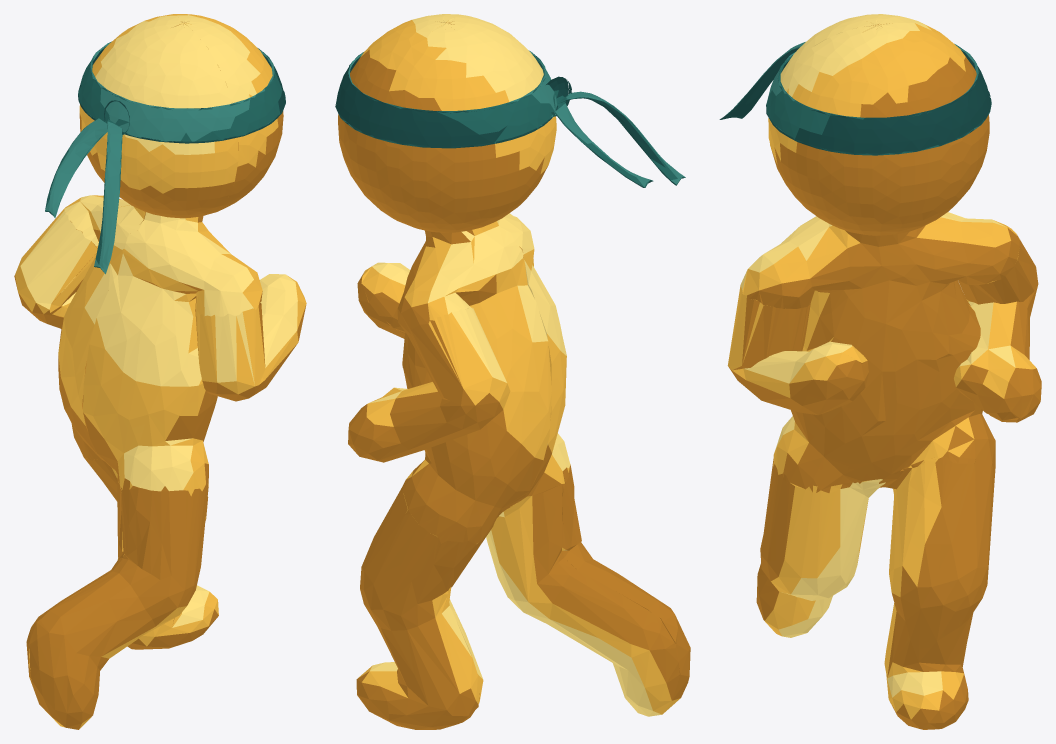
Rendered from Ninja_Jog2_R.gltf.
The picture shows the model from 3 angles, left to right: view 1: azimuth 30°, elevation 25°; view 2: azimuth 150°, elevation 25°; view 3: azimuth 270°, elevation 25°; orthographic projection. The views are drawn at different scales.
Visible parts, largest first — view 1: Ninja_Jog2_R_baked; view 2: Ninja_Jog2_R_baked; view 3: Ninja_Jog2_R_baked.
Part boxes in pixels (left/top/right/bottom): Ninja_Jog2_R_baked: left=14, top=14, right=306, bottom=729; Ninja_Jog2_R_baked: left=335, top=14, right=690, bottom=729; Ninja_Jog2_R_baked: left=719, top=14, right=1041, bottom=729.
Size of the model in its own units: 0.4635 by 1 by 0.4214.
